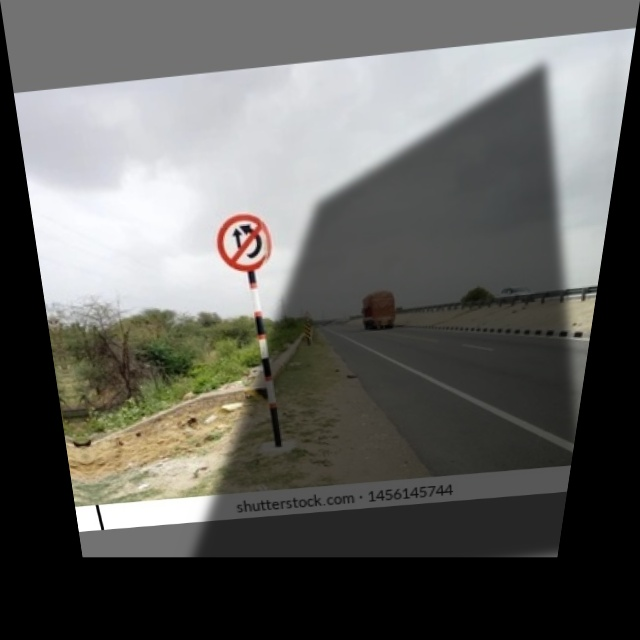Overtaking_Prohibited: (213, 212, 276, 276)
